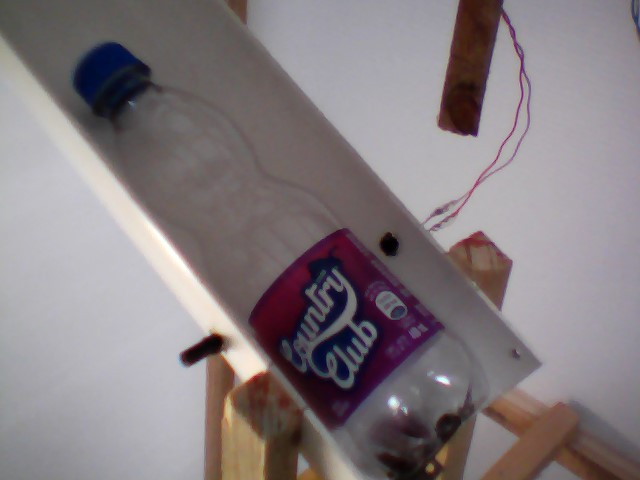plastico: (70, 37, 499, 480)
